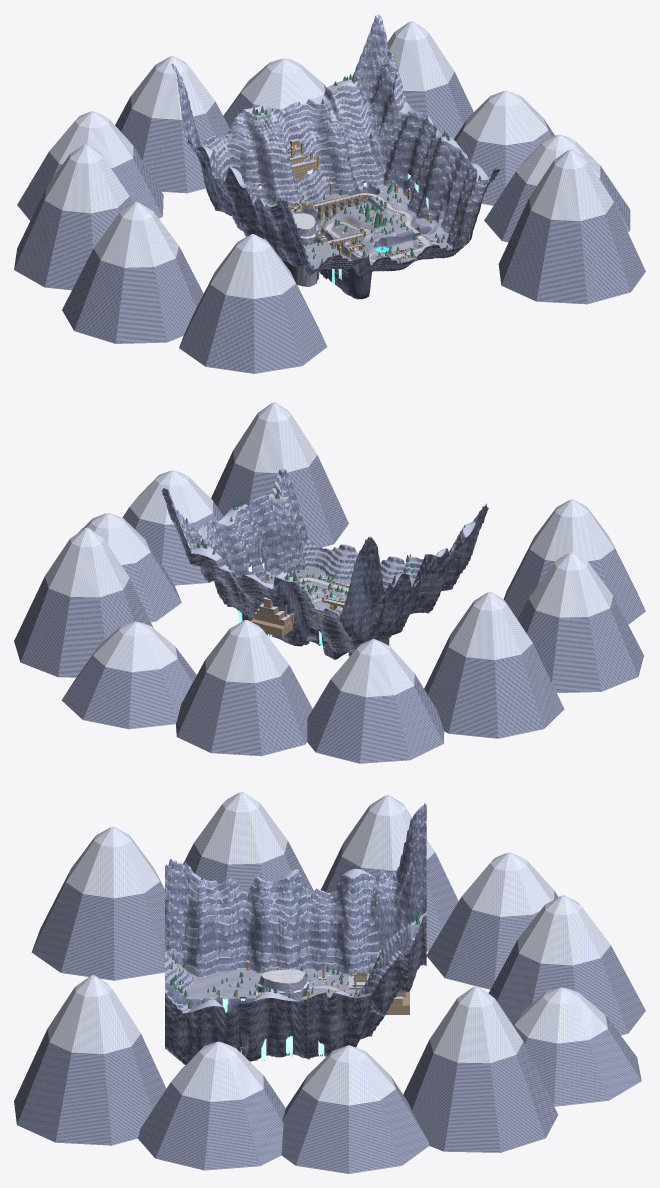
3 renders of one model, top to bottom at view 1: azimuth 30°, elevation 25°; view 2: azimuth 150°, elevation 25°; view 3: azimuth 270°, elevation 25°, orthographic. The views are drawn at different scales.
Visible parts, largest first — view 1: Mountains, Far Peak 11, Far Peak 7, Far Peak 8, Far Peak 6, Far Peak 4, Far Peak 1, Far Peak 5, Far Peak 2, Far Peak 12, Far Peak 3, Serpent Rock (+2 smaller); view 2: Mountains, Far Peak 6, Far Peak 4, Far Peak 5, Far Peak 2, Far Peak 7, Far Peak 3, Far Peak 11, Far Peak 8, Far Peak 12, Far Peak 1, Fortress visual 0 0; view 3: Mountains, Far Peak 11, Far Peak 2, Far Peak 8, Far Peak 12, Far Peak 1, Far Peak 4, Far Peak 3, Far Peak 5, Far Peak 7, Far Peak 6, Serpent Rock.
Part boxes in pixels (bbox=[...]): Mountains: bbox=[171, 14, 500, 299]; Far Peak 11: bbox=[498, 149, 645, 304]; Far Peak 7: bbox=[62, 202, 203, 343]; Far Peak 8: bbox=[179, 234, 327, 373]; Far Peak 6: bbox=[14, 144, 132, 290]; Far Peak 4: bbox=[115, 56, 229, 193]; Far Peak 1: bbox=[454, 90, 554, 205]; Far Peak 5: bbox=[17, 111, 163, 220]; Far Peak 2: bbox=[387, 21, 473, 139]; Far Peak 12: bbox=[484, 134, 630, 242]; Far Peak 3: bbox=[223, 58, 326, 128]; Serpent Rock: bbox=[283, 213, 319, 286]; Mountains: bbox=[161, 468, 488, 659]; Far Peak 6: bbox=[424, 591, 564, 738]; Far Peak 4: bbox=[176, 620, 312, 756]; Far Peak 5: bbox=[307, 639, 444, 763]; Far Peak 2: bbox=[14, 527, 153, 677]; Far Peak 7: bbox=[517, 552, 643, 692]; Far Peak 3: bbox=[61, 621, 196, 729]; Far Peak 11: bbox=[211, 402, 348, 547]; Far Peak 8: bbox=[504, 499, 645, 624]; Far Peak 12: bbox=[122, 470, 223, 585]; Far Peak 1: bbox=[78, 513, 181, 622]; Fortress visual 0 0: bbox=[250, 580, 429, 643]; Mountains: bbox=[165, 803, 426, 1064]; Far Peak 11: bbox=[14, 975, 166, 1145]; Far Peak 2: bbox=[403, 986, 557, 1152]; Far Peak 8: bbox=[31, 827, 164, 980]; Far Peak 12: bbox=[138, 1041, 285, 1170]; Far Peak 1: bbox=[281, 1045, 429, 1173]; Far Peak 4: bbox=[488, 895, 645, 1035]; Far Peak 3: bbox=[513, 987, 641, 1106]; Far Peak 5: bbox=[426, 852, 558, 989]; Far Peak 7: bbox=[182, 792, 313, 891]; Far Peak 6: bbox=[321, 795, 458, 951]; Serpent Rock: bbox=[257, 969, 309, 1000].
Size of the model in its own units: 2183 by 691 by 1981.
Materials: 31 (31 with a texture image).
